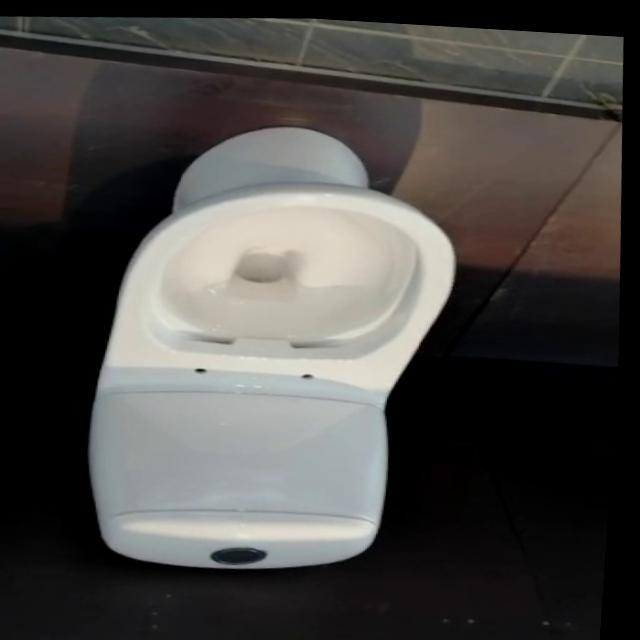toilet: (71, 105, 485, 584)
